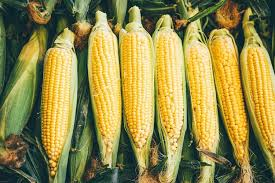milho: (15, 16, 273, 169)
